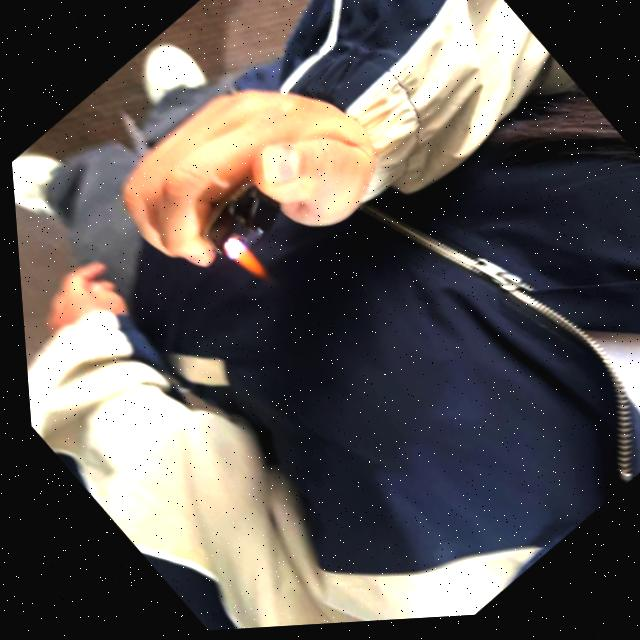Fire: (211, 233, 267, 295)
